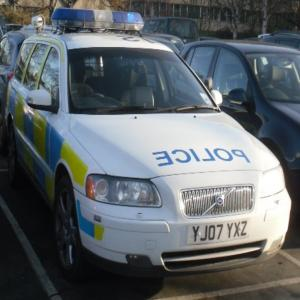Vehicle-registration-plate: (188, 223, 251, 247)
